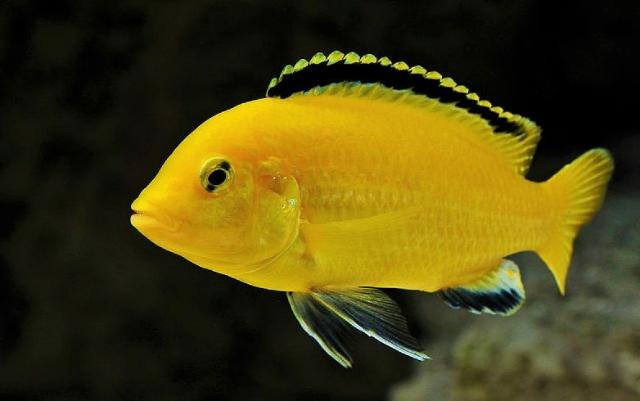Mulut: (111, 186, 173, 245)
Sirip Anal: (440, 250, 536, 326)
Sirip Dada: (298, 196, 437, 288)
Sirip Ekor: (534, 137, 626, 298)
Sirip Perut: (282, 272, 436, 380)
Sirip Punggung: (263, 42, 545, 180)
